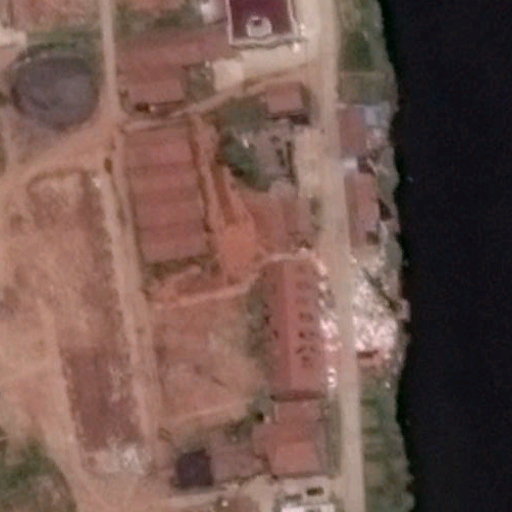msw: (354, 258, 399, 349), (310, 251, 338, 394)
